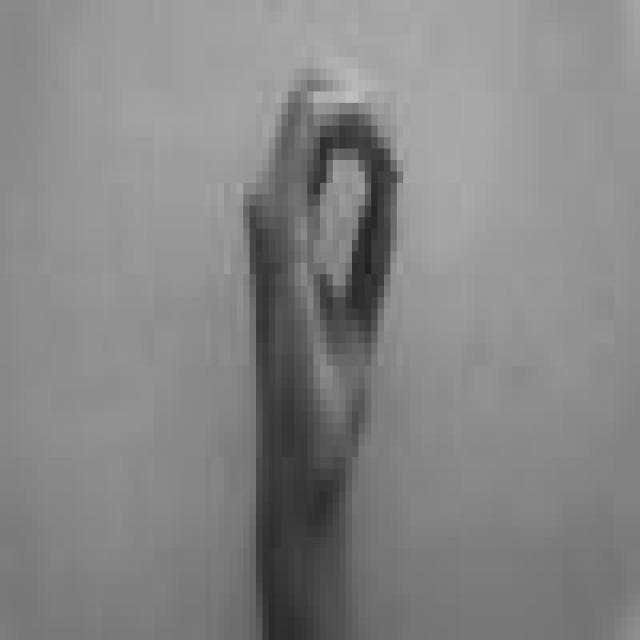O: (230, 52, 416, 554)
